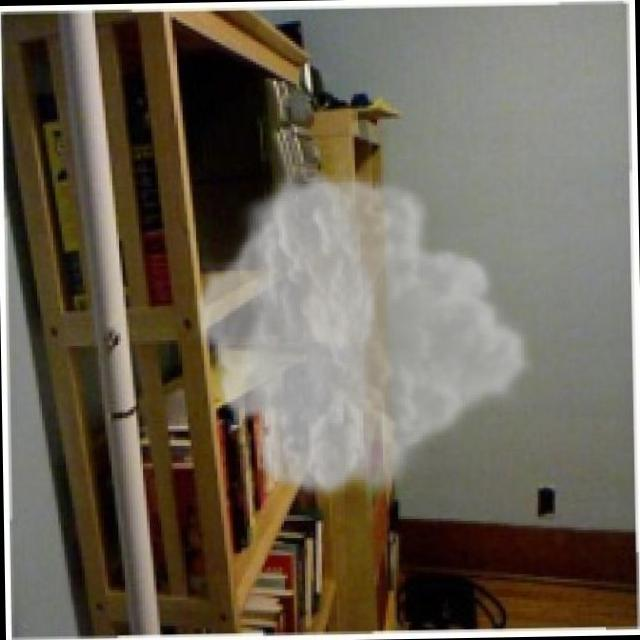Smoke: (189, 159, 538, 508)
